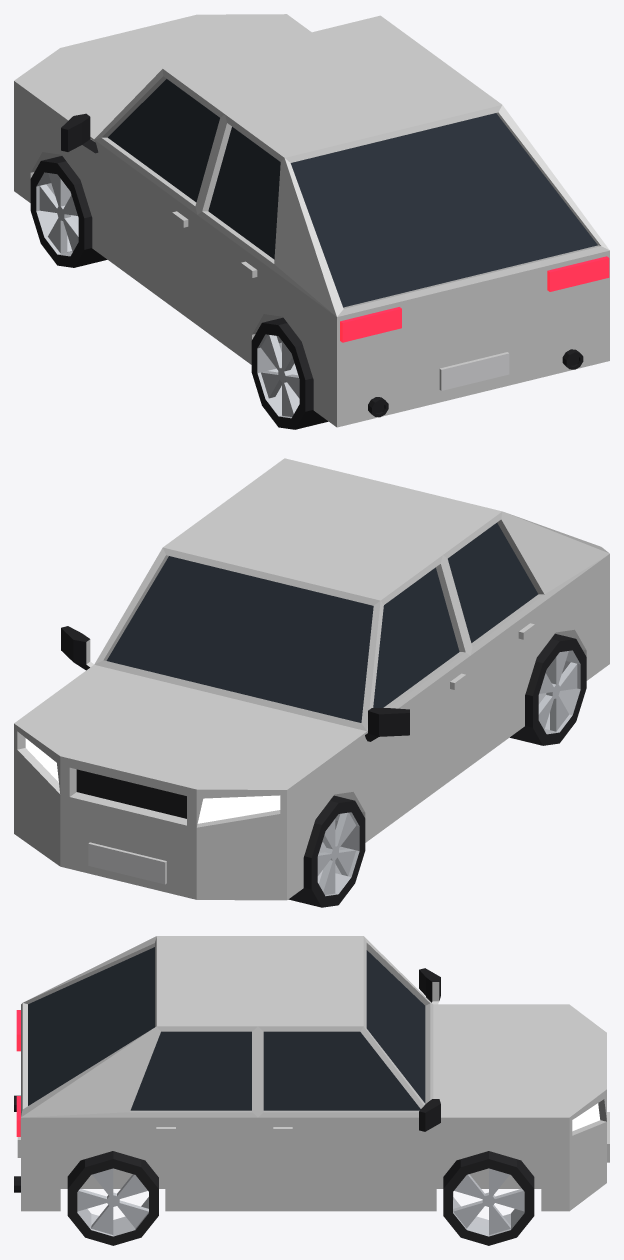
File: hatch_ev.glb
3 renders of one model, top to bottom at view 1: azimuth 30°, elevation 25°; view 2: azimuth 150°, elevation 25°; view 3: azimuth 270°, elevation 25°, orthographic. The views are drawn at different scales.
Visible parts, largest first — view 1: Body, Glass, Bumper_R, Hood, Wheel_RL, Wheel_FL, Lamp_R, Mirror_L; view 2: Body, Glass, Hood, Bumper_F, Wheel_FL, Wheel_RL, Lamp_F, Mirror_L, Mirror_R; view 3: Body, Glass, Hood, Wheel_RR, Wheel_FR, Bumper_F, Mirror_R, Mirror_L, Lamp_F.
Part boxes in pixels (x1,y1,x2,y2): Body: (14,15,609,427); Glass: (108,79,597,307); Bumper_R: (337,280,609,427); Hood: (14,14,311,138); Wheel_RL: (251,317,328,429); Wheel_FL: (30,156,107,267); Lamp_R: (340,256,609,342); Mirror_L: (61,113,98,153); Body: (14,458,609,899); Glass: (106,523,538,722); Hood: (14,660,366,827); Bumper_F: (14,753,286,900); Wheel_FL: (288,795,365,907); Wheel_RL: (510,633,586,745); Lamp_F: (25,738,280,823); Mirror_L: (365,708,409,741); Mirror_R: (61,626,89,670); Body: (14,936,609,1211); Glass: (28,947,425,1110); Hood: (425,1003,606,1135); Wheel_RR: (67,1151,158,1245); Wheel_FR: (443,1151,534,1245); Bumper_F: (569,1112,609,1210); Mirror_R: (419,1099,440,1131); Mirror_L: (419,968,440,1002); Lamp_F: (572,1103,600,1131).
Size of the model in its own units: 2.26 by 1.51 by 3.94.
